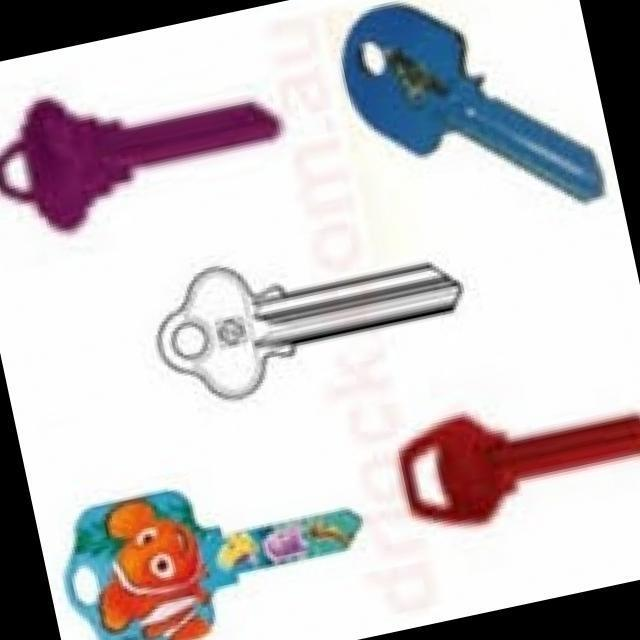Keys: (342, 2, 606, 204), (63, 489, 365, 639), (157, 262, 465, 400), (0, 96, 282, 234), (398, 412, 640, 526)
